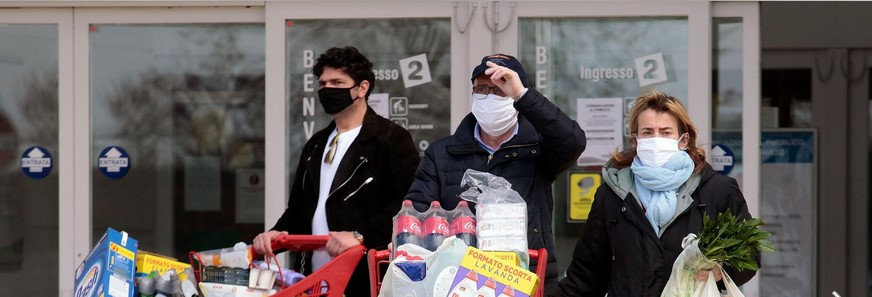face_with_mask: (628, 93, 694, 170), (471, 57, 526, 139), (312, 48, 372, 117)
